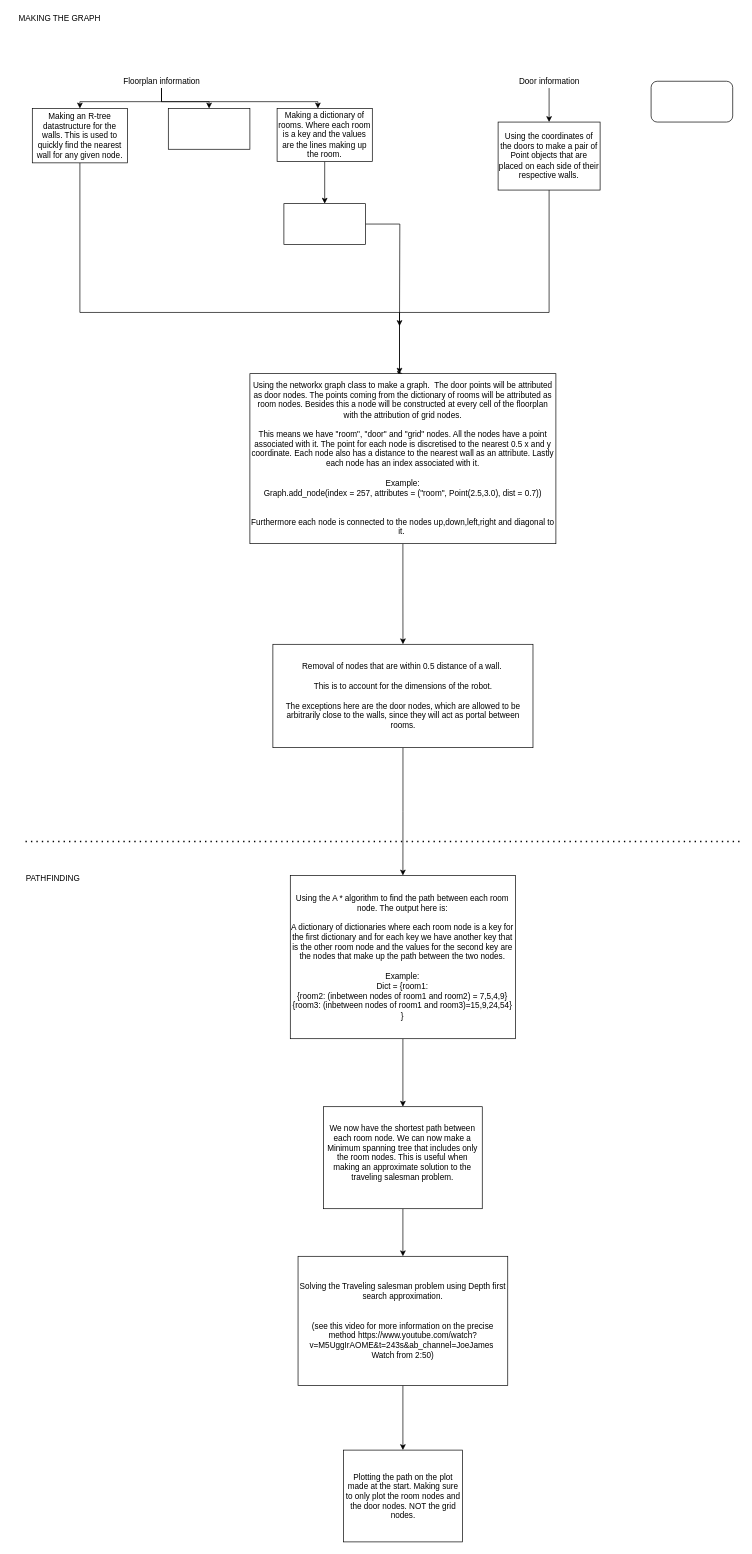
Some shapes in this 752 by 1554 pixel diagram are drawn without their labels. The centre of each missing label's shape, as x and y in pixels:
"Classes Point class Graph class R-tree class" belongs at point 691,101.
"Generating a Point object at the center of each room." belongs at point 324,223.
"plotting the floorplan on a grid where each cell is 0.5x0.5." belongs at point 209,128.
